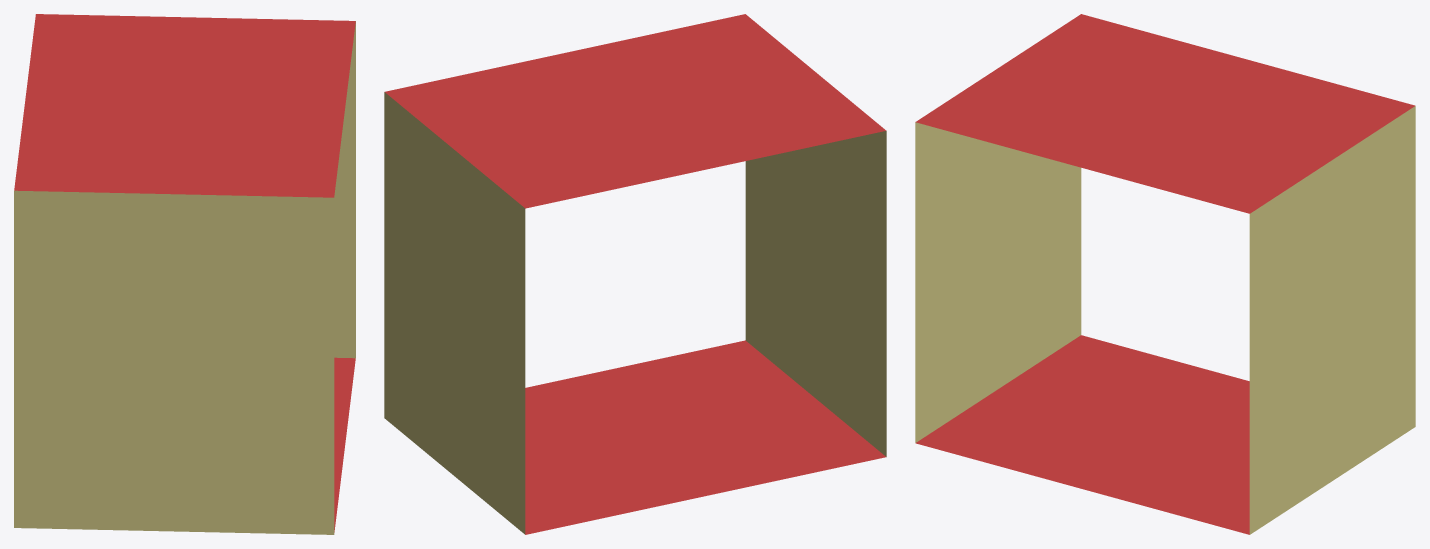
3 renders of one model, left to right at view 1: azimuth 30°, elevation 25°; view 2: azimuth 150°, elevation 25°; view 3: azimuth 270°, elevation 25°, orthographic. The views are drawn at different scales.
Bounding box in the file's own units: 7.05 × 7.46 × 5.28.
